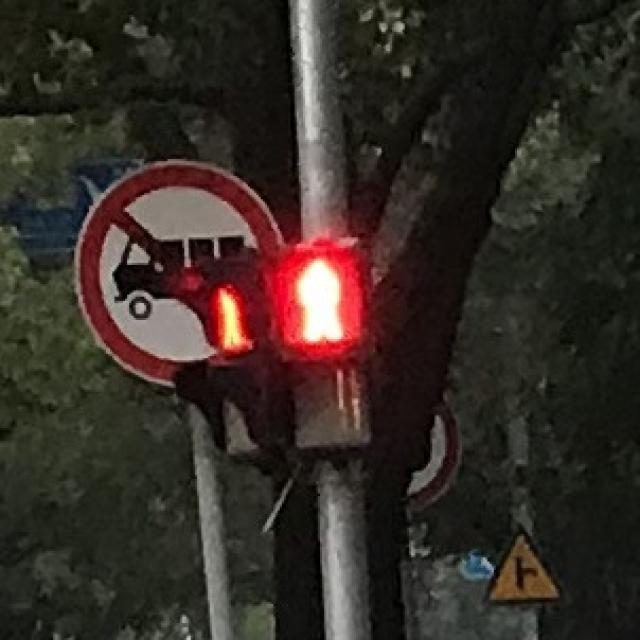red-crossing: (276, 248, 360, 356)
